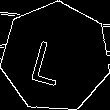L_N: (34, 28, 77, 86)
